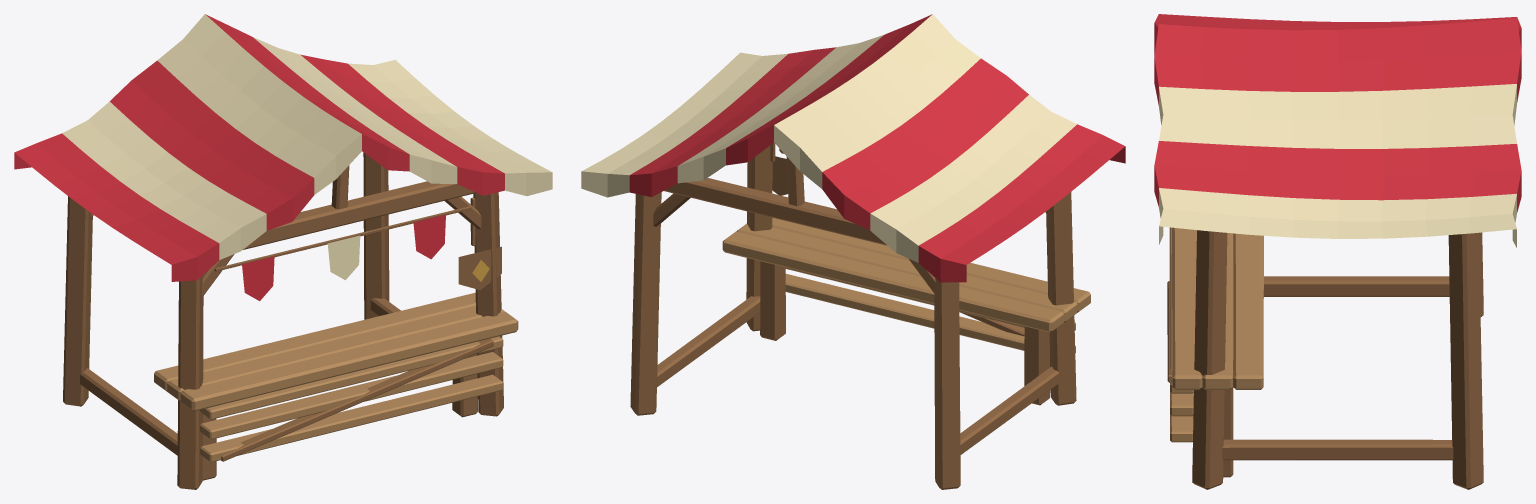
Rendered from WallRush_Festival_Tent_v1.glb.
3 views of the same model, side by side, from view 1: azimuth 30°, elevation 25°; view 2: azimuth 150°, elevation 25°; view 3: azimuth 270°, elevation 25° (orthographic). The views are drawn at different scales.
Parts seen in each view (by area): view 1: Sculpted_CONNECTED_Canopy, Seating_Mesh, Timber_Mesh, Pennants_Mesh, Trim_Mesh; view 2: Sculpted_CONNECTED_Canopy, Timber_Mesh, Seating_Mesh, Trim_Mesh; view 3: Sculpted_CONNECTED_Canopy, Timber_Mesh, Seating_Mesh.
Part boxes in pixels (bbox=[...]): Sculpted_CONNECTED_Canopy: bbox=[14, 14, 552, 281]; Seating_Mesh: bbox=[154, 292, 518, 462]; Timber_Mesh: bbox=[63, 152, 503, 489]; Pennants_Mesh: bbox=[214, 206, 471, 301]; Trim_Mesh: bbox=[458, 197, 501, 289]; Sculpted_CONNECTED_Canopy: bbox=[581, 14, 1125, 282]; Timber_Mesh: bbox=[630, 145, 1076, 489]; Seating_Mesh: bbox=[722, 217, 1090, 352]; Trim_Mesh: bbox=[770, 142, 788, 195]; Sculpted_CONNECTED_Canopy: bbox=[1154, 14, 1521, 247]; Timber_Mesh: bbox=[1192, 230, 1483, 489]; Seating_Mesh: bbox=[1167, 227, 1263, 442].
Size of the model in its own units: 2.8 by 2.36 by 2.05.
